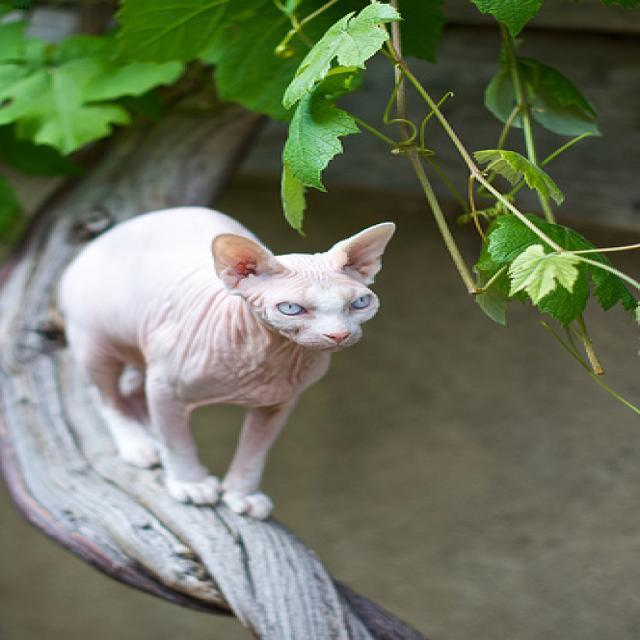Sphynx: (208, 220, 393, 350)
